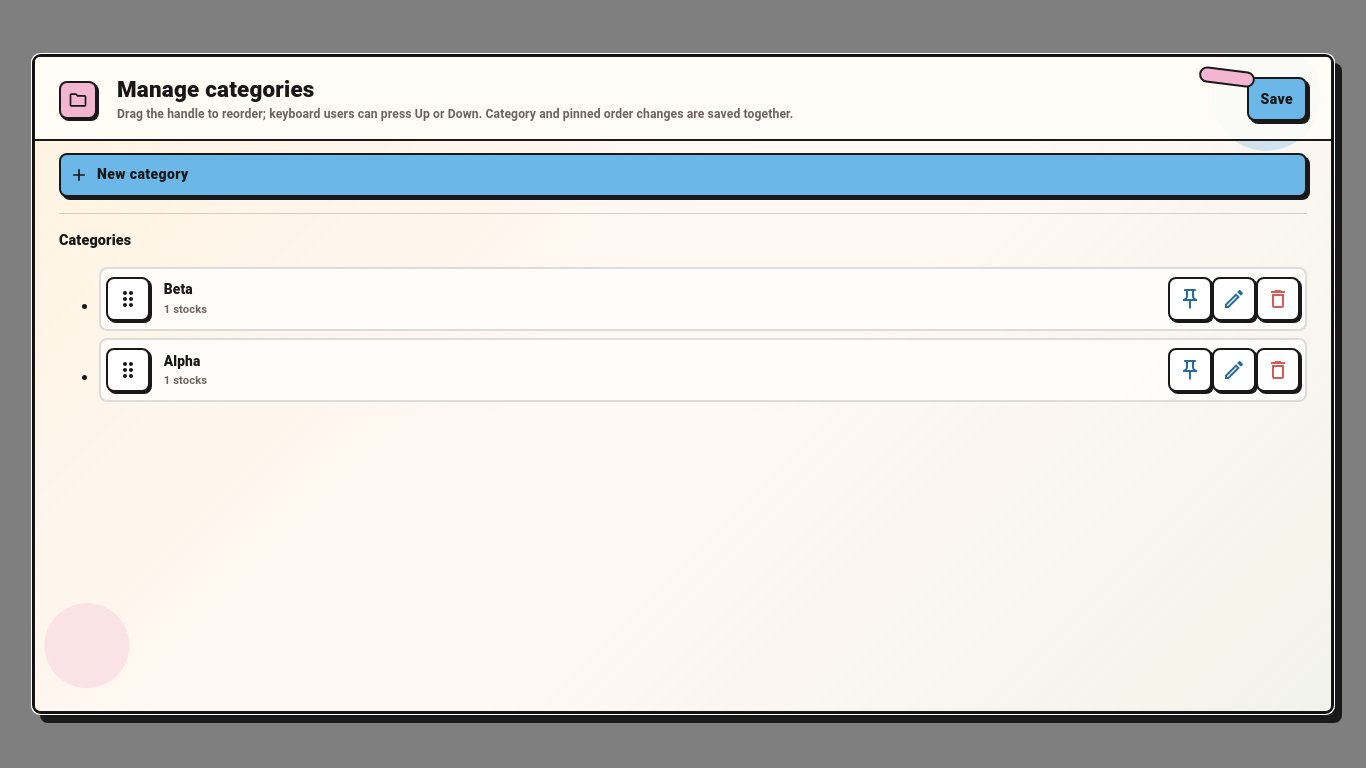
Test: CategoryManageDialog › retains the category draft and shows the existing save error when persistence fails
The width and height of the screenshot is (1366, 768).
Step 1. Click the button "Save" → (1277, 99), box [1246,77,1307,121]
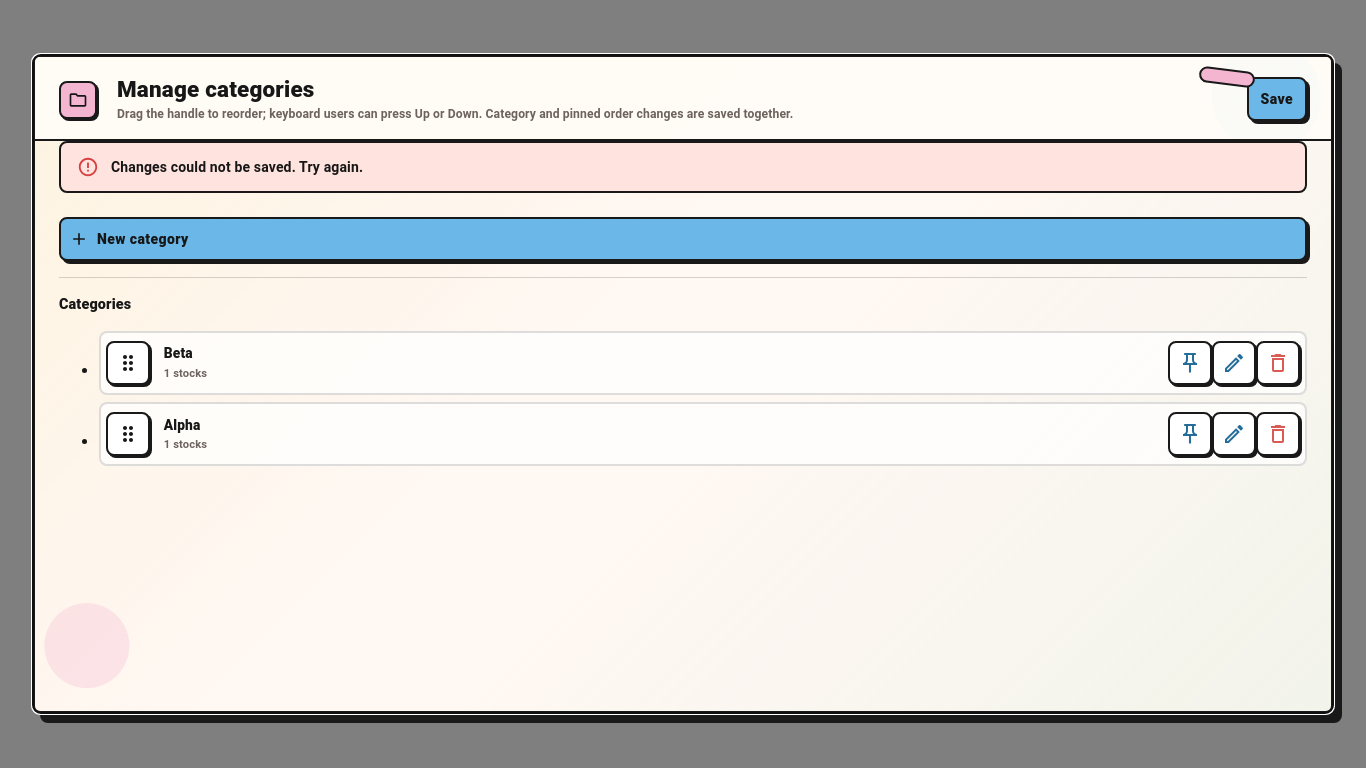
Expected: the message reads "Changes could not be saved. Try again.", [111,158,363,174]
